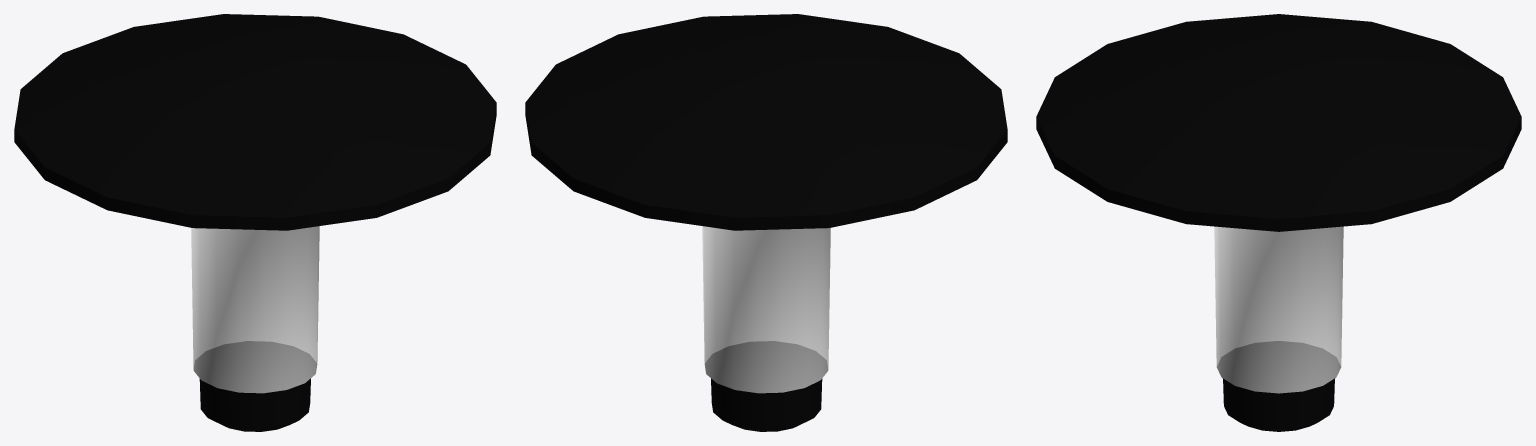
The model's file is Laterne.glb.
3 renders of one model, left to right at view 1: azimuth 30°, elevation 25°; view 2: azimuth 150°, elevation 25°; view 3: azimuth 270°, elevation 25°, orthographic.
Parts seen in each view (by area): view 1: Siteco Laterne, Siteco Laterne GLas; view 2: Siteco Laterne, Siteco Laterne GLas; view 3: Siteco Laterne, Siteco Laterne GLas.
Part boxes in pixels (left/top/right/bottom): Siteco Laterne: left=14, top=14, right=496, bottom=431; Siteco Laterne GLas: left=191, top=226, right=319, bottom=393; Siteco Laterne: left=525, top=14, right=1007, bottom=431; Siteco Laterne GLas: left=702, top=226, right=830, bottom=393; Siteco Laterne: left=1036, top=14, right=1521, bottom=431; Siteco Laterne GLas: left=1214, top=226, right=1343, bottom=393.
Size of the model in its own units: 0.7507 by 0.5803 by 0.7507.
Materials: 3 (2 with a texture image).
